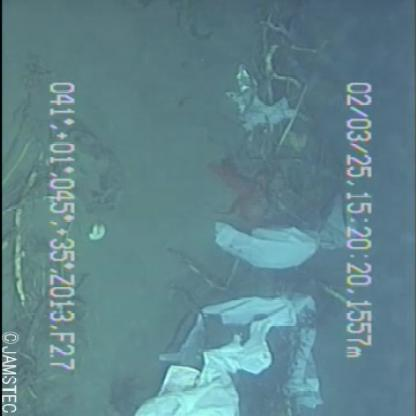Rác: (204, 183, 354, 267)
